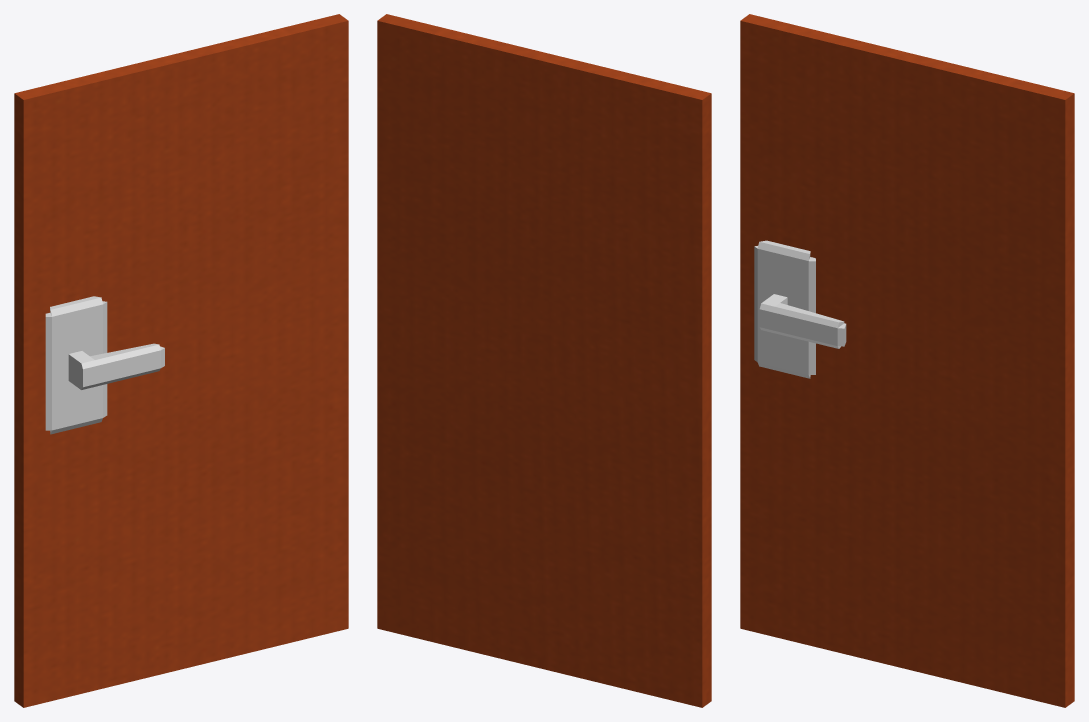
The model's file is Pintu.fbx.
3 views of the same model, side by side, from view 1: azimuth 30°, elevation 25°; view 2: azimuth 150°, elevation 25°; view 3: azimuth 330°, elevation 25° (orthographic).
Visible parts, largest first — view 1: Pintu; view 2: Pintu; view 3: Pintu.
Boxes of the visible parts, <box> form: Pintu: <box>14,14,348,707</box>; Pintu: <box>377,14,711,707</box>; Pintu: <box>740,14,1074,707</box>.
Bounding box in the file's own units: 3.77 × 6.74 × 0.5881.
